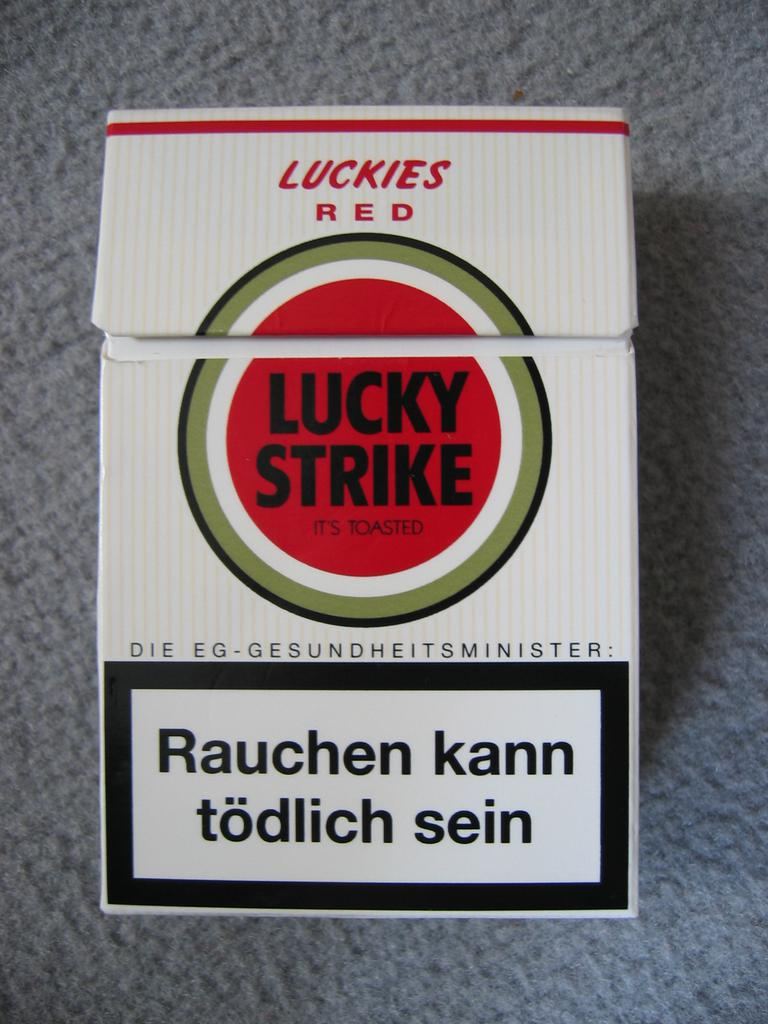lucky_strike_red: (105, 113, 637, 922)
